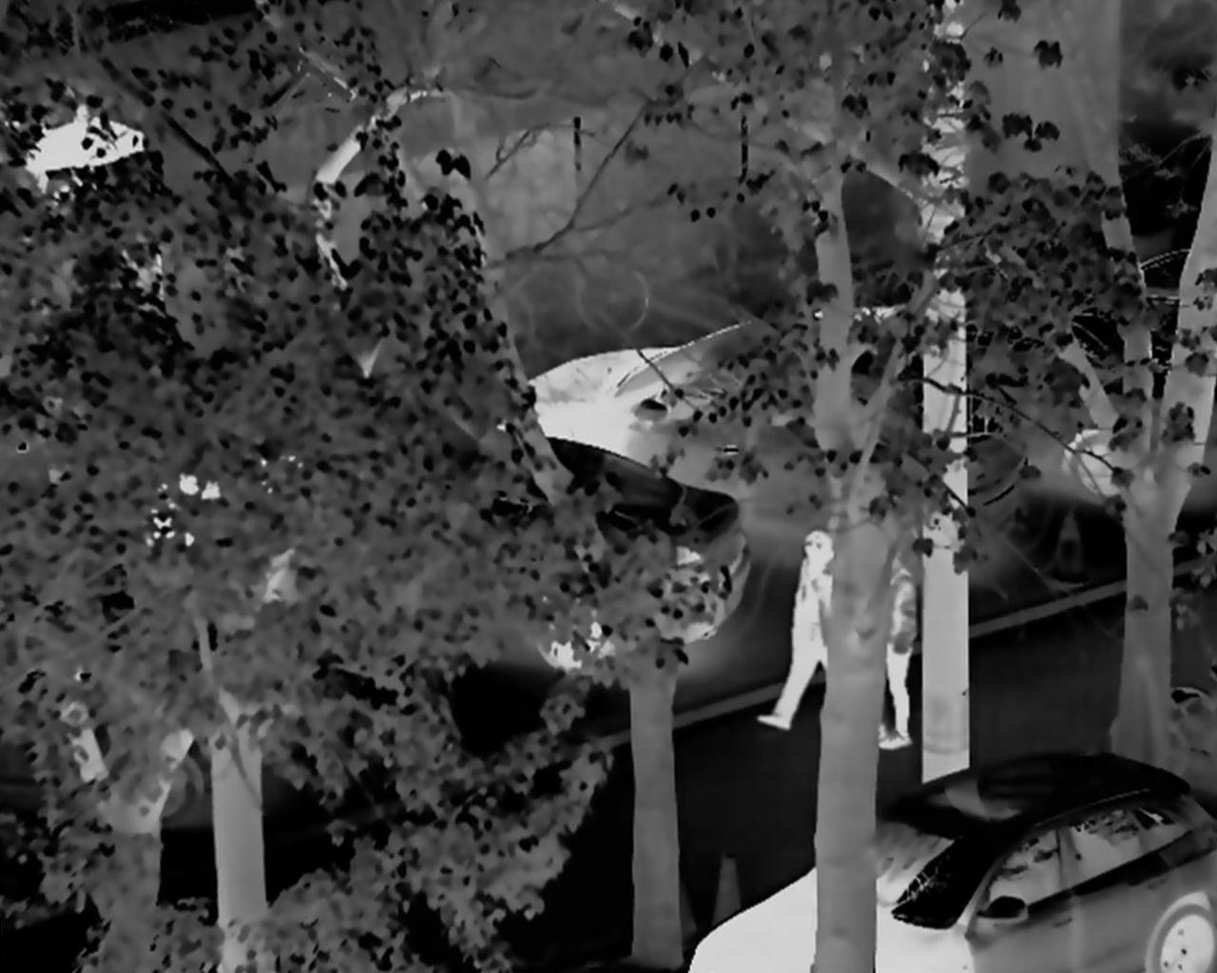person: (758, 524, 851, 735), (849, 528, 919, 754)
